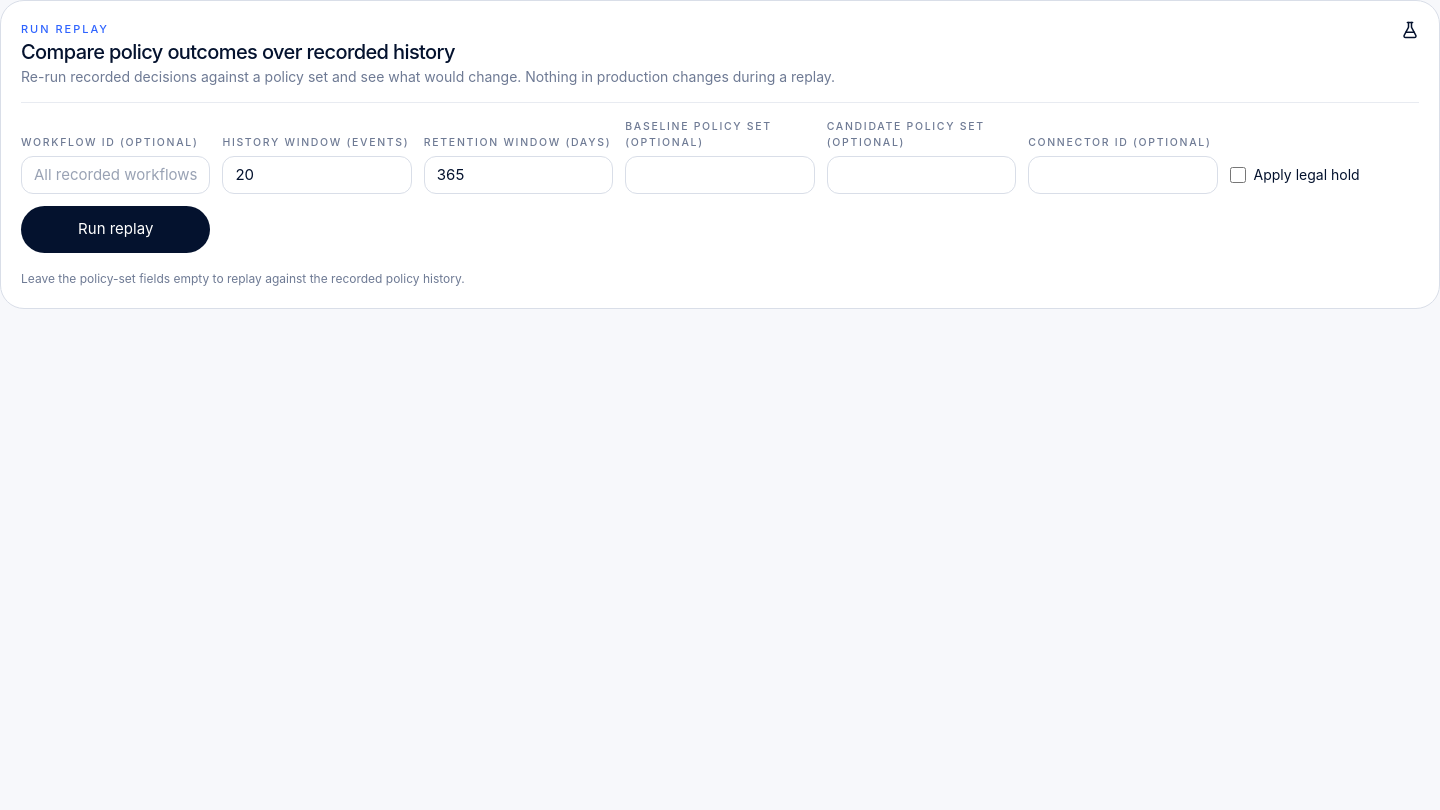
Scenario: RunReplayForm › runs a replay with the drafted parameters and renders the decision diff
The width and height of the screenshot is (1440, 810).
Type "wf_supply_fixture" into the field labelled "Workflow id (optional)".
click(116, 175); type("wf_supply_fixture")  # box [21, 156, 210, 194]
Replace the text in the number field labelled "History window (events)" with "50" at (317,175), box [222, 156, 412, 194]
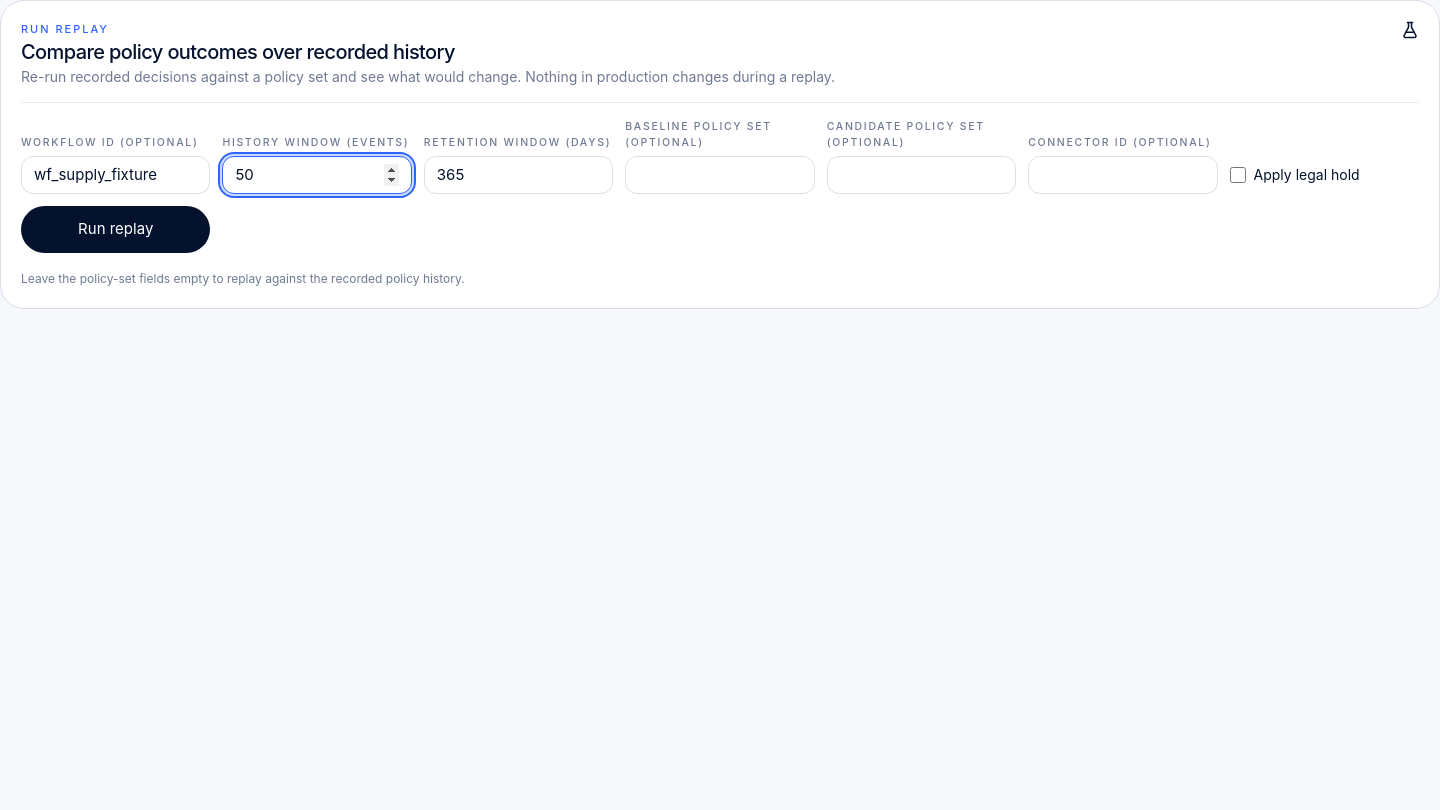
Type "policy_set_v1" into the field labelled "Baseline policy set (optional)".
click(720, 175); type("policy_set_v1")  # box [625, 156, 815, 194]
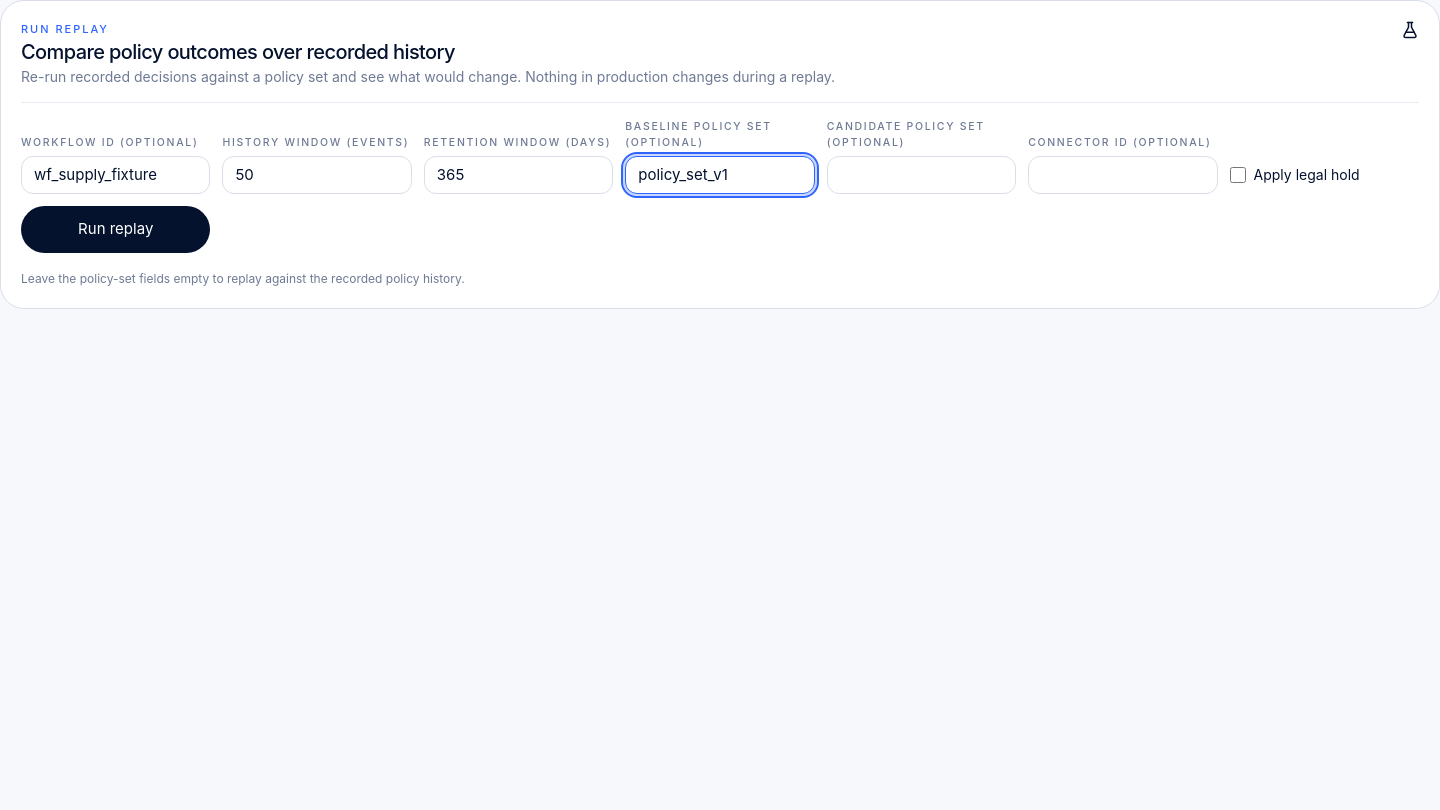
Type "policy_set_v2" into the field labelled "Candidate policy set (optional)".
click(921, 175); type("policy_set_v2")  # box [827, 156, 1016, 194]
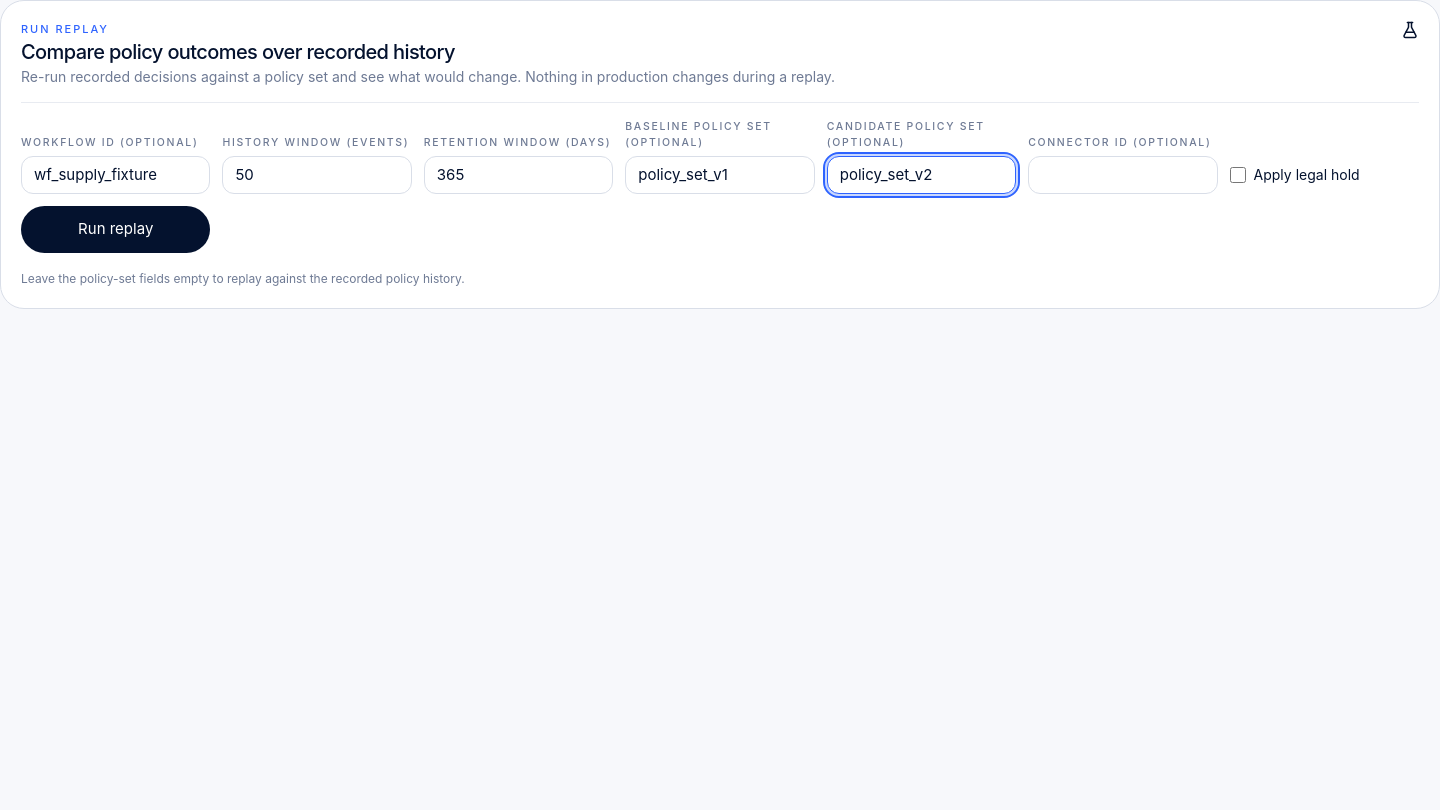
Type "connector_csv_assets" into the field labelled "Connector id (optional)".
click(1123, 175); type("connector_csv_assets")  # box [1028, 156, 1218, 194]
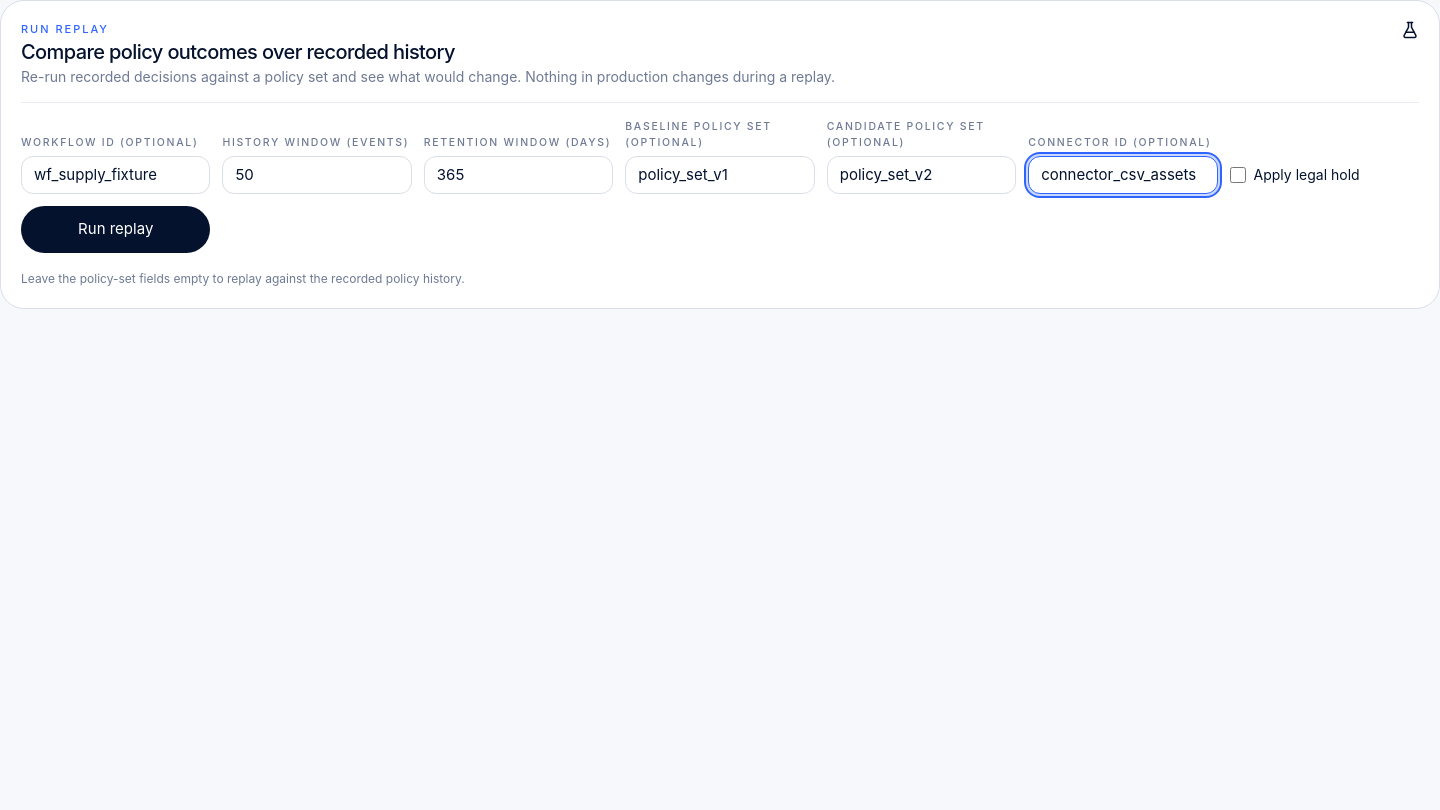
Click the checkbox labelled "Apply legal hold".
click(1238, 175)  # box [1230, 167, 1246, 183]
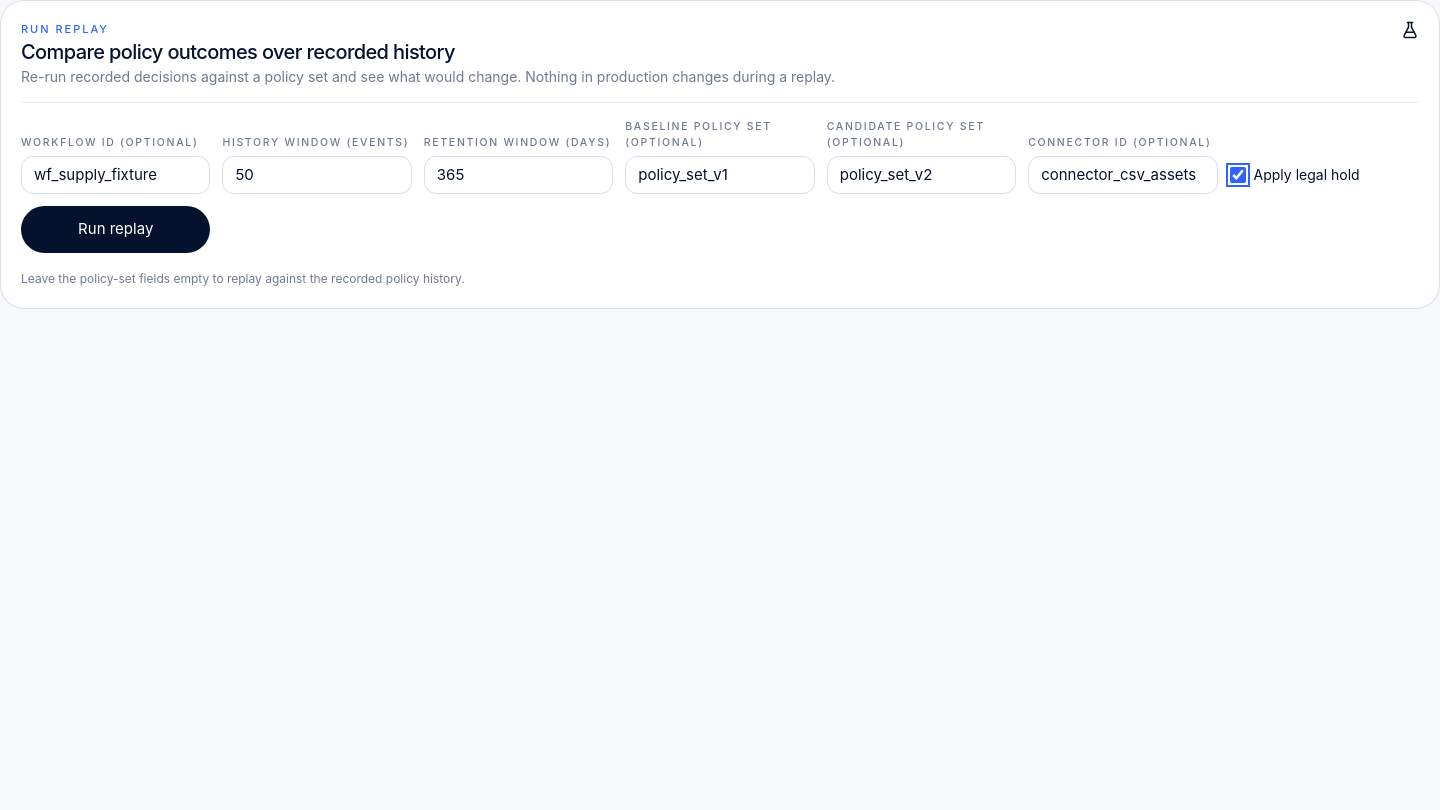
Click the button "Run replay".
click(116, 230)  # box [21, 206, 210, 253]
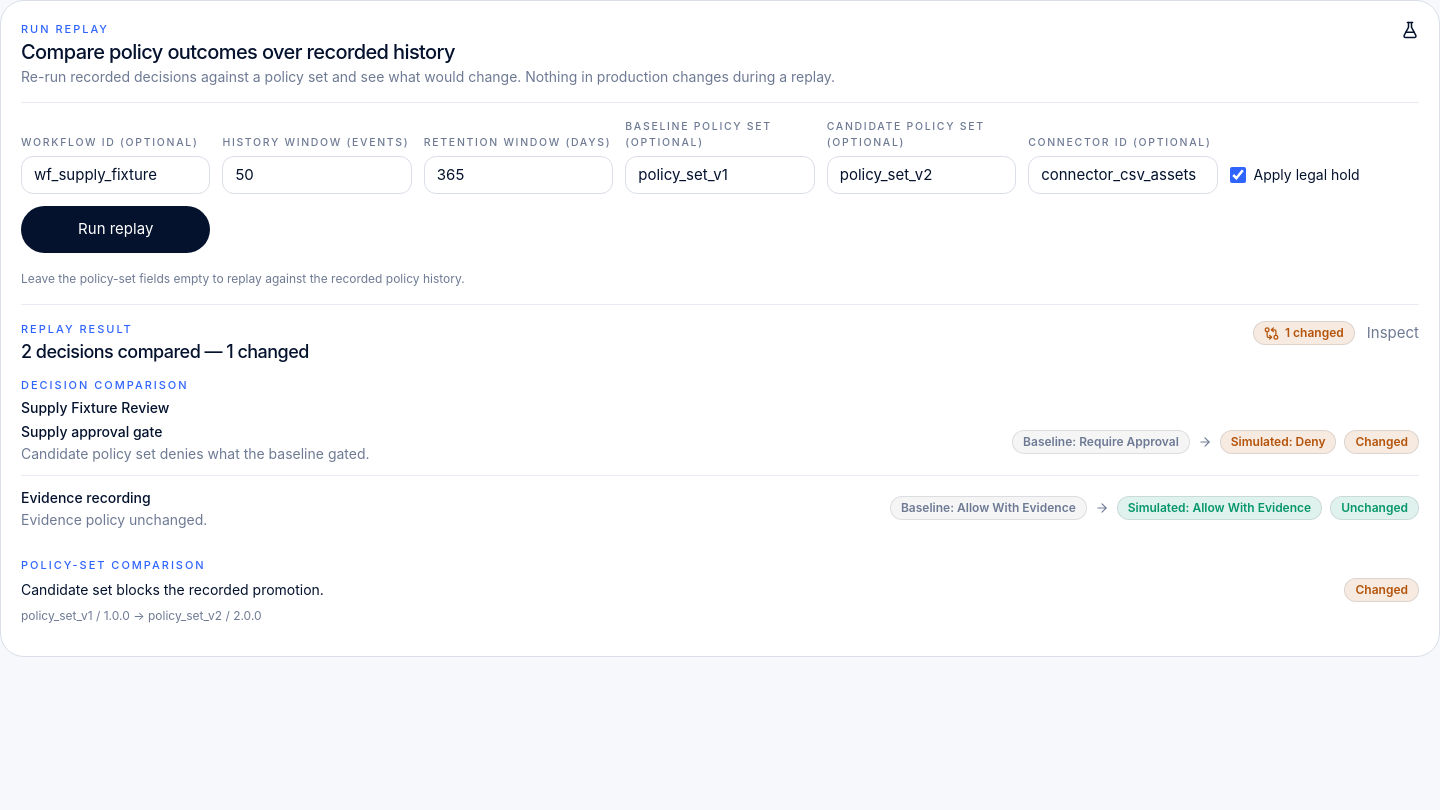
Result: the heading "2 decisions compared — 1 changed" is shown at [21, 342, 309, 361]
Result: the text "Baseline: Require Approval" is shown at [1012, 430, 1190, 454]
Result: the text "Simulated: Deny" is shown at [1220, 430, 1336, 454]
